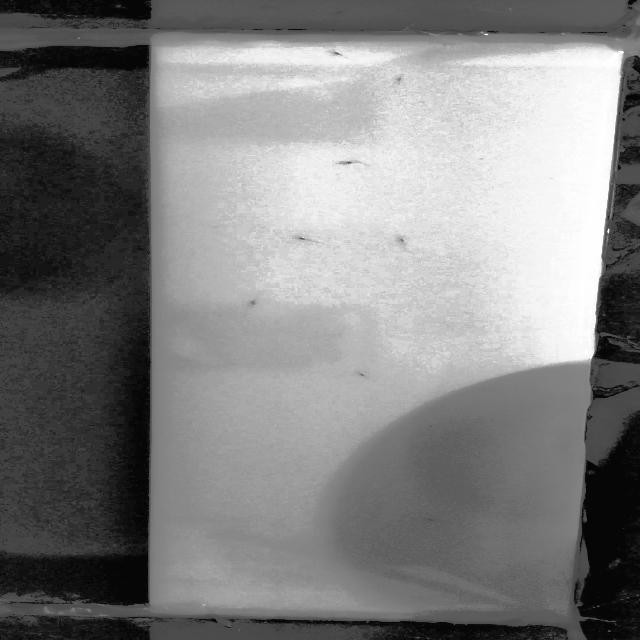shrimp: (384, 230, 412, 249), (319, 48, 356, 61), (413, 513, 445, 528), (289, 230, 316, 246), (239, 294, 267, 308), (383, 74, 411, 87), (333, 157, 361, 167), (344, 370, 370, 380)
